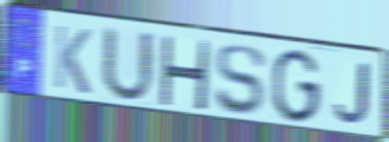G: (270, 47, 323, 126)
H: (157, 33, 212, 113)
J: (332, 61, 372, 127)
K: (51, 22, 94, 97)
S: (214, 43, 268, 117)
U: (99, 24, 157, 106)
